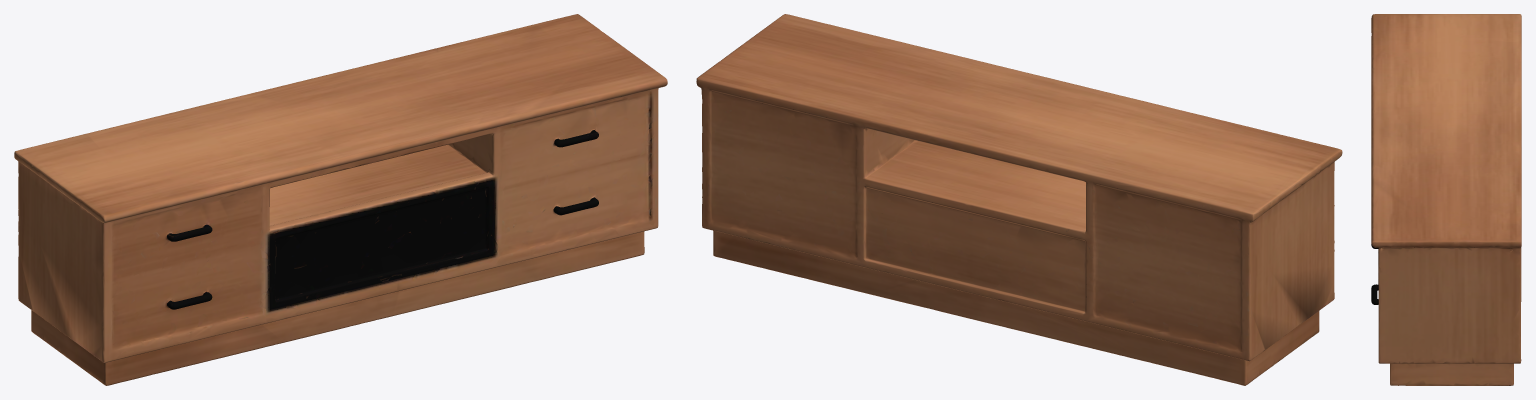
The model's file is console.glb.
3 views of the same model, side by side, from view 1: azimuth 30°, elevation 25°; view 2: azimuth 150°, elevation 25°; view 3: azimuth 270°, elevation 25° (orthographic). The views are drawn at different scales.
Parts seen in each view (by area): view 1: geometry_0; view 2: geometry_0; view 3: geometry_0.
Boxes of the visible parts, box(x1,y1,x2,y2) form: geometry_0: box(14, 14, 667, 385); geometry_0: box(696, 14, 1342, 385); geometry_0: box(1371, 14, 1521, 385).
Bounding box in the file's own units: 1 × 0.3086 × 0.2797.
Materials: 1 (1 with a texture image).
